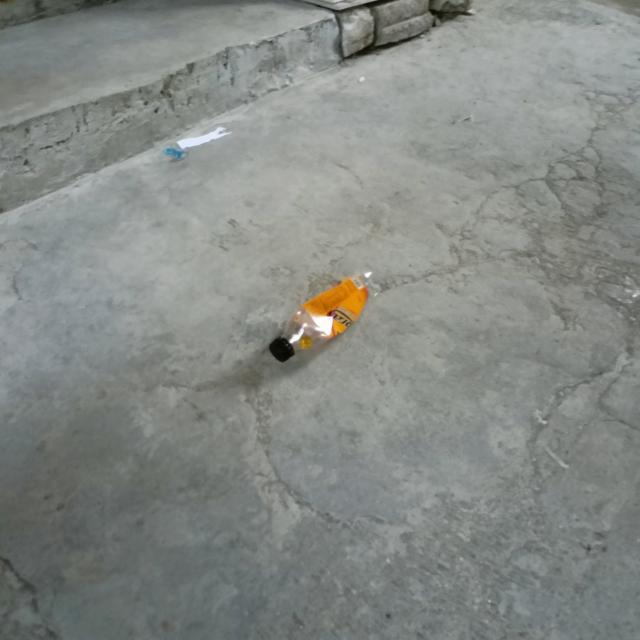Bottle: (269, 272, 382, 362)
